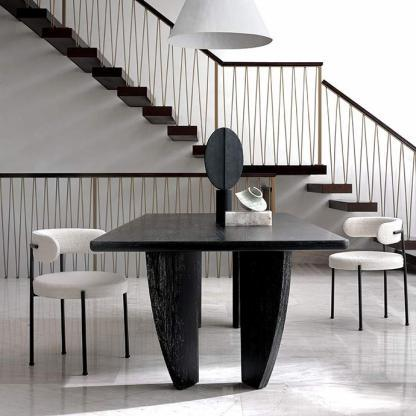chair: (27, 225, 137, 376), (328, 204, 416, 334)
light: (175, 0, 276, 229)
table: (94, 207, 349, 400)
